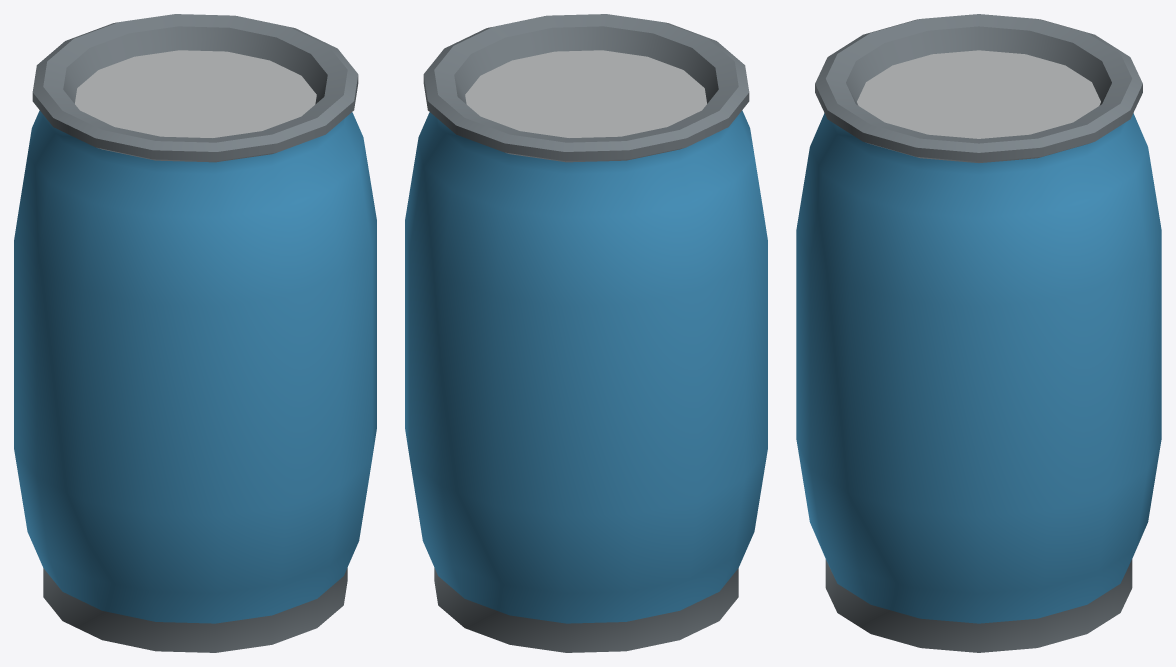
Rendered from BarrelSingle.fbx.
3 renders of one model, left to right at view 1: azimuth 30°, elevation 25°; view 2: azimuth 150°, elevation 25°; view 3: azimuth 270°, elevation 25°, orthographic.
Visible parts, largest first — view 1: BarrelSingle; view 2: BarrelSingle; view 3: BarrelSingle.
Part boxes in pixels (x1,y1,x2,y2): BarrelSingle: (14, 14, 376, 652); BarrelSingle: (405, 14, 767, 652); BarrelSingle: (796, 14, 1161, 652).
Bounding box in the file's own units: 76.2 × 117 × 76.2.
1 material, 1 textured.
